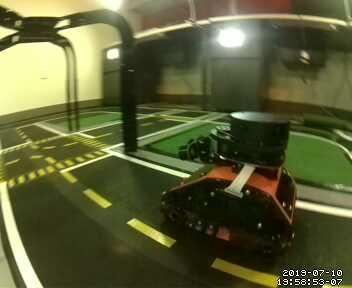pheeno: (161, 110, 299, 259)
